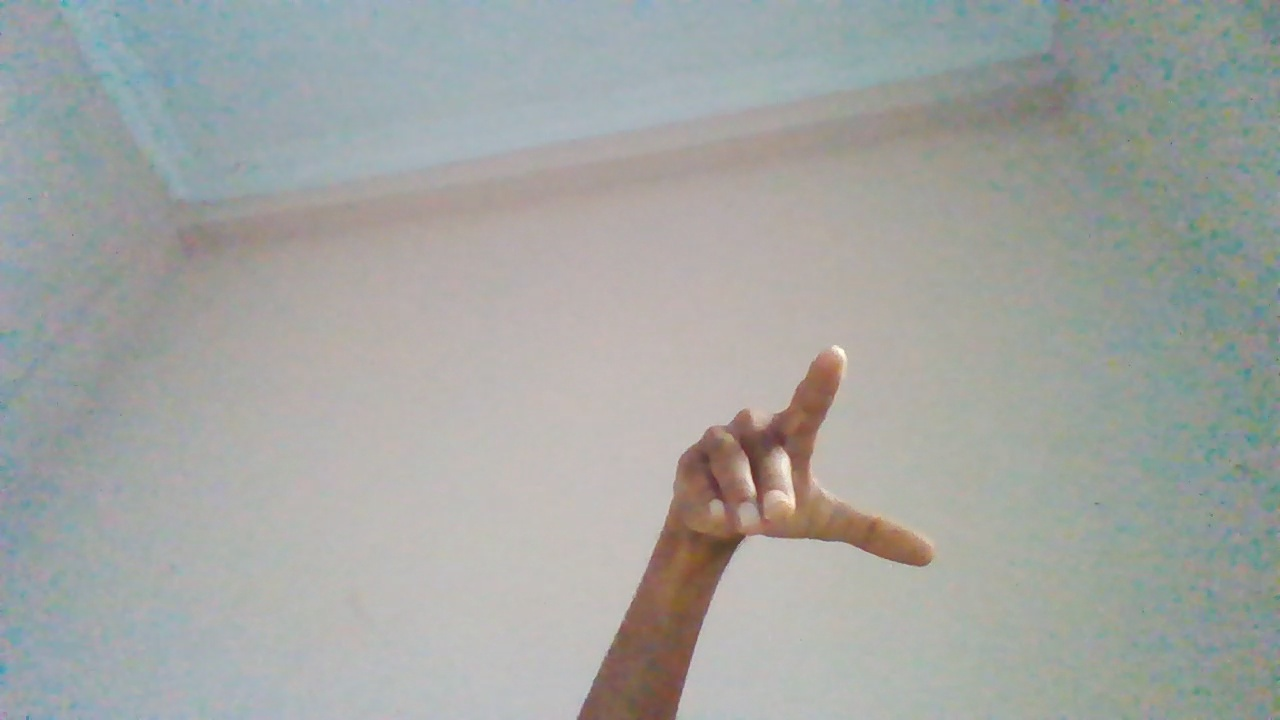ke: (647, 343, 932, 714)
